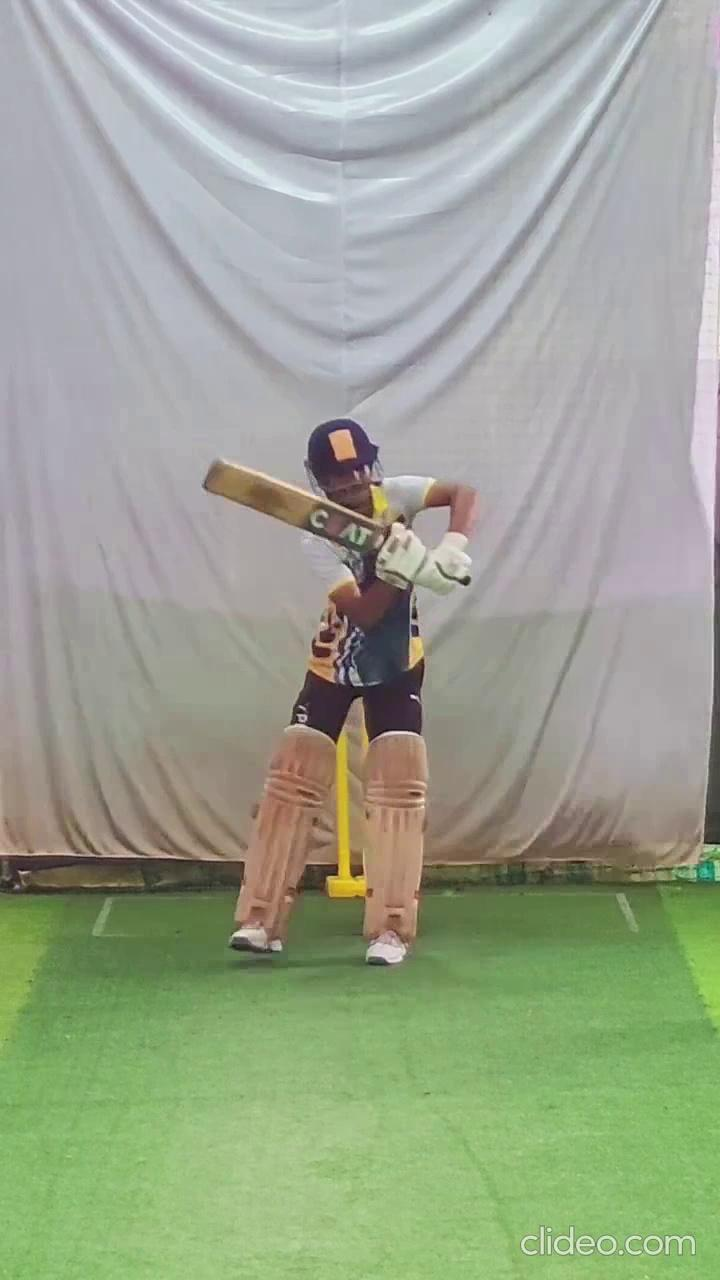bat: (198, 452, 387, 562)
